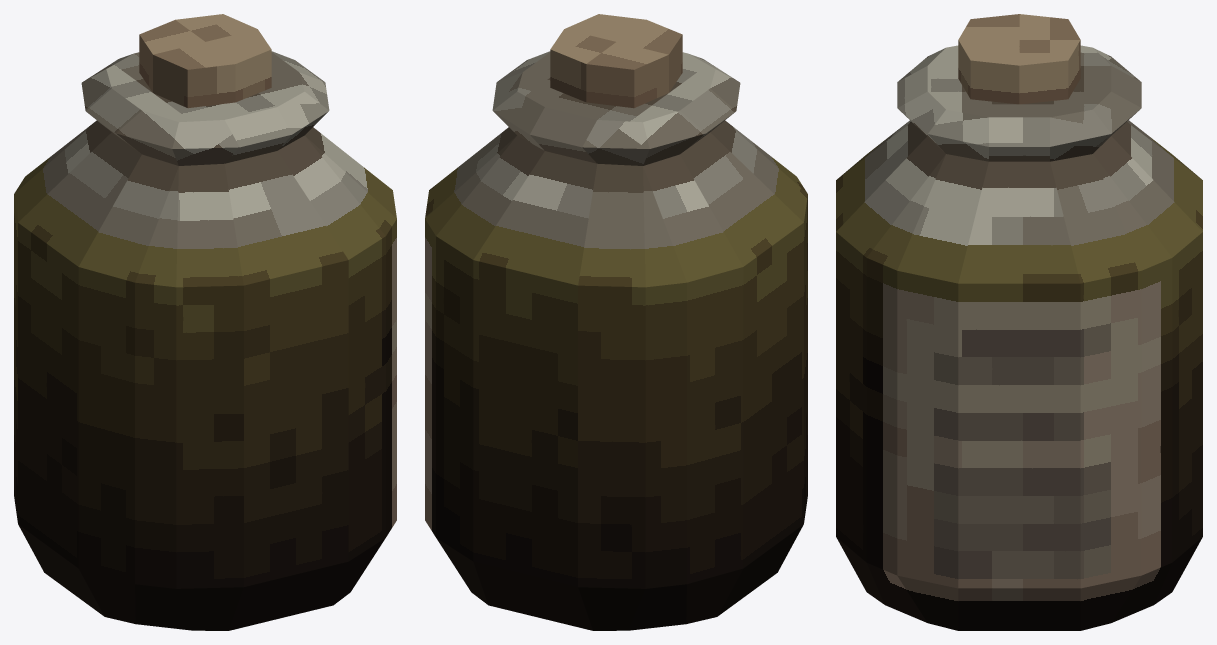
The model's file is panaceum.gltf.
The picture shows the model from 3 angles, left to right: view 1: azimuth 30°, elevation 25°; view 2: azimuth 150°, elevation 25°; view 3: azimuth 270°, elevation 25°; orthographic projection.
Visible parts, largest first — view 1: bottle, cork; view 2: bottle, cork; view 3: bottle, cork.
Boxes of the visible parts, x1,y1,x2,y2 form: bottle: [14, 51, 396, 630]; cork: [139, 14, 271, 108]; bottle: [425, 51, 807, 630]; cork: [550, 14, 682, 108]; bottle: [836, 45, 1202, 630]; cork: [958, 14, 1080, 104].
Size of the model in its own units: 0.1875 by 0.2969 by 0.1875.
1 material, 1 textured.
